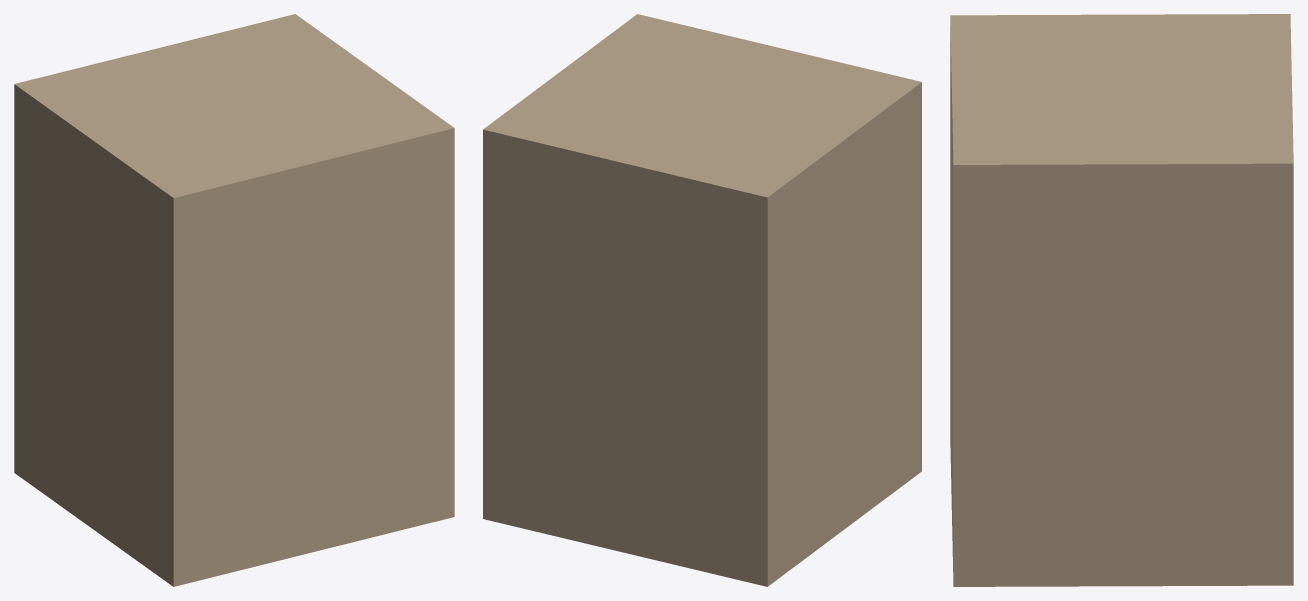
File: bld_106796794.dae
3 views of the same model, side by side, from view 1: azimuth 30°, elevation 25°; view 2: azimuth 150°, elevation 25°; view 3: azimuth 270°, elevation 25° (orthographic). The views are drawn at different scales.
Parts seen in each view (by area): view 1: bld_106796794; view 2: bld_106796794; view 3: bld_106796794.
Boxes of the visible parts, x1,y1,x2,y2 form: bld_106796794: (14, 14, 454, 586); bld_106796794: (483, 14, 921, 586); bld_106796794: (950, 14, 1293, 586).
Bounding box in the file's own units: 6.14 × 5.9 × 8.
